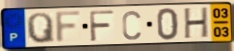0: (156, 6, 180, 41)
C: (121, 9, 143, 41)
F: (54, 10, 84, 45), (88, 10, 116, 44)
H: (183, 5, 210, 40)
Q: (25, 12, 56, 45)
